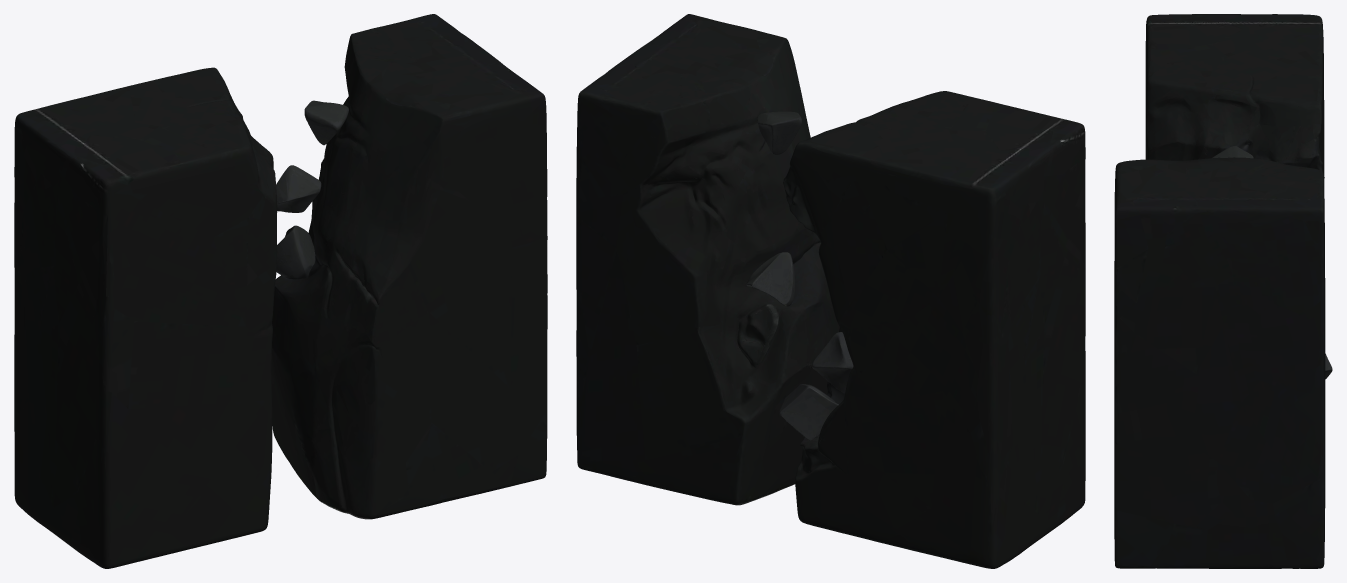
Rendered from problem.glb.
3 renders of one model, left to right at view 1: azimuth 30°, elevation 25°; view 2: azimuth 150°, elevation 25°; view 3: azimuth 270°, elevation 25°, orthographic. The views are drawn at different scales.
Size of the model in its own units: 1.9 by 1.66 by 0.8937.
Materials: 1 (1 with a texture image).
